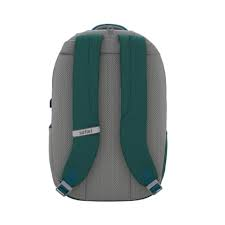backpack: (48, 23, 167, 201)
